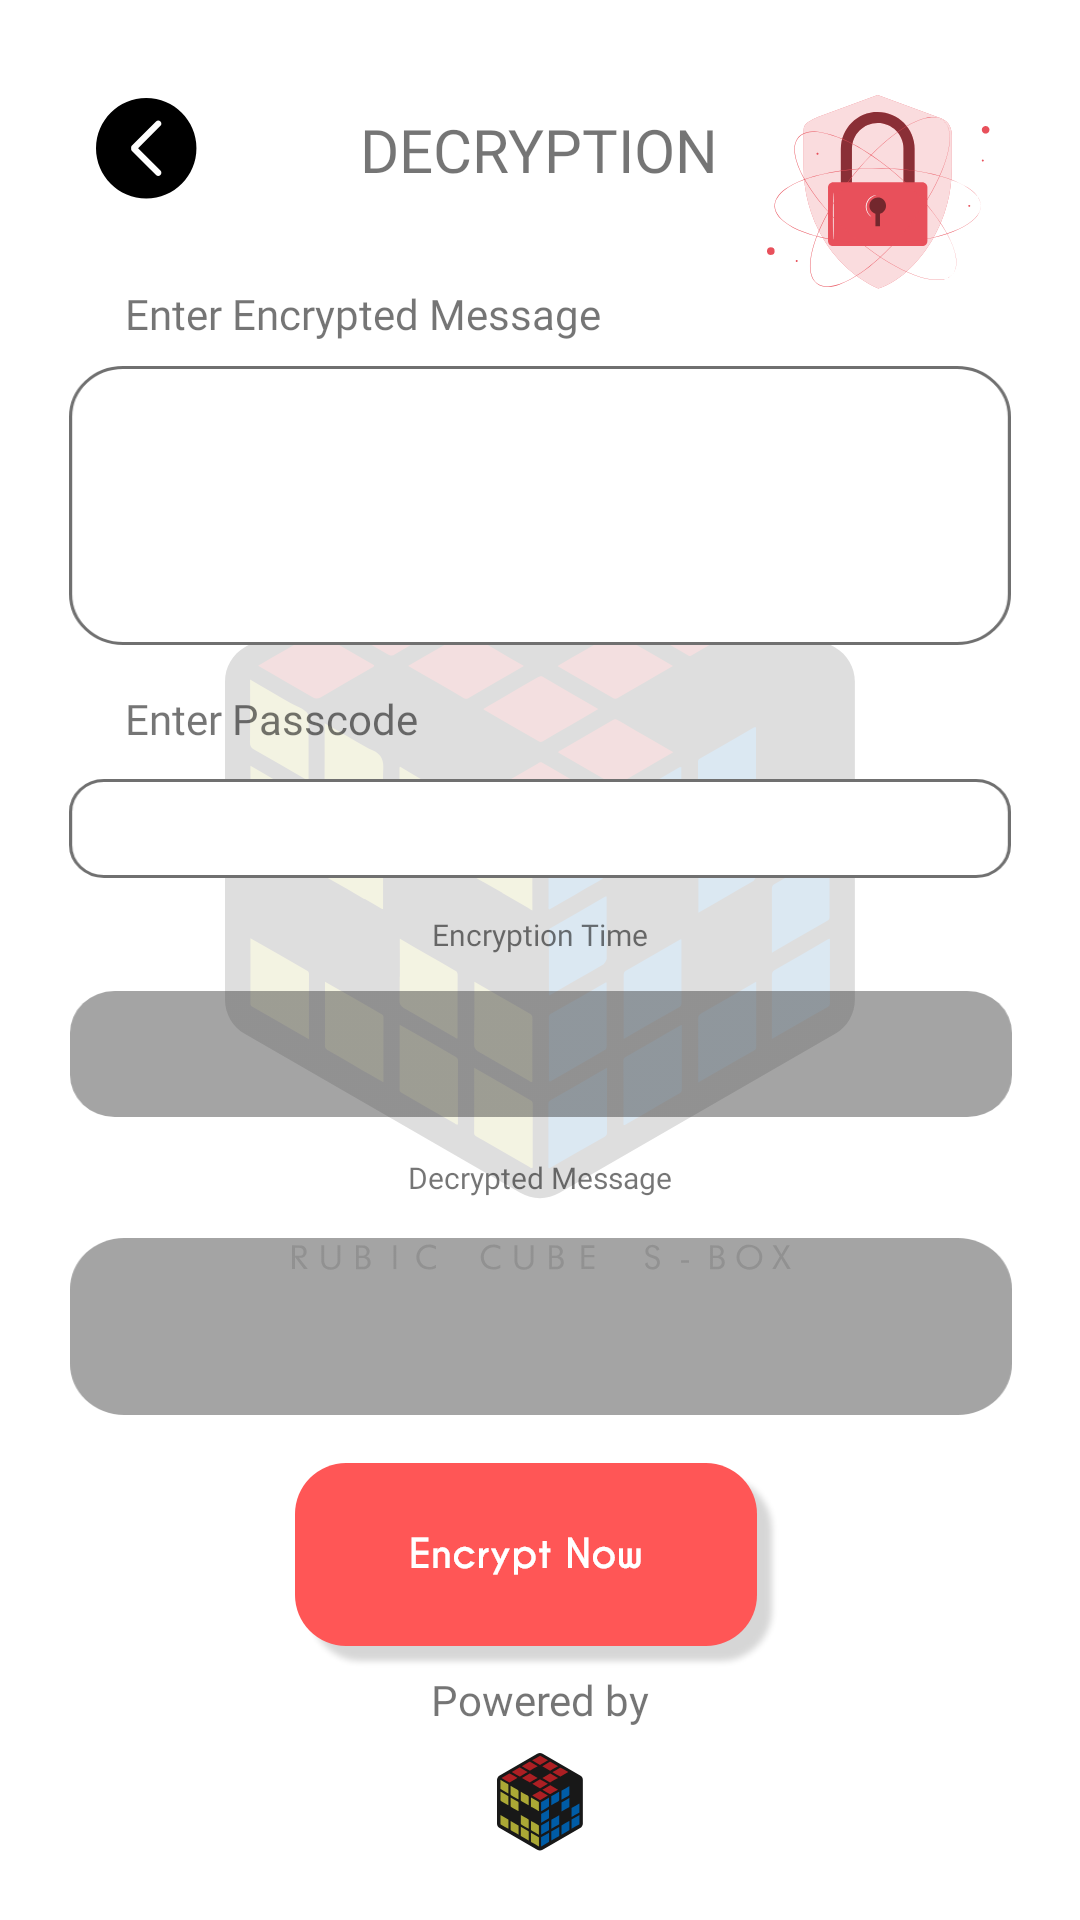

Screen size 1080×1920. Icon name, then its box in pixels as [x1, y1, x2, y2]:
backbutton: [96, 98, 197, 199]
lock: [767, 95, 990, 289]
